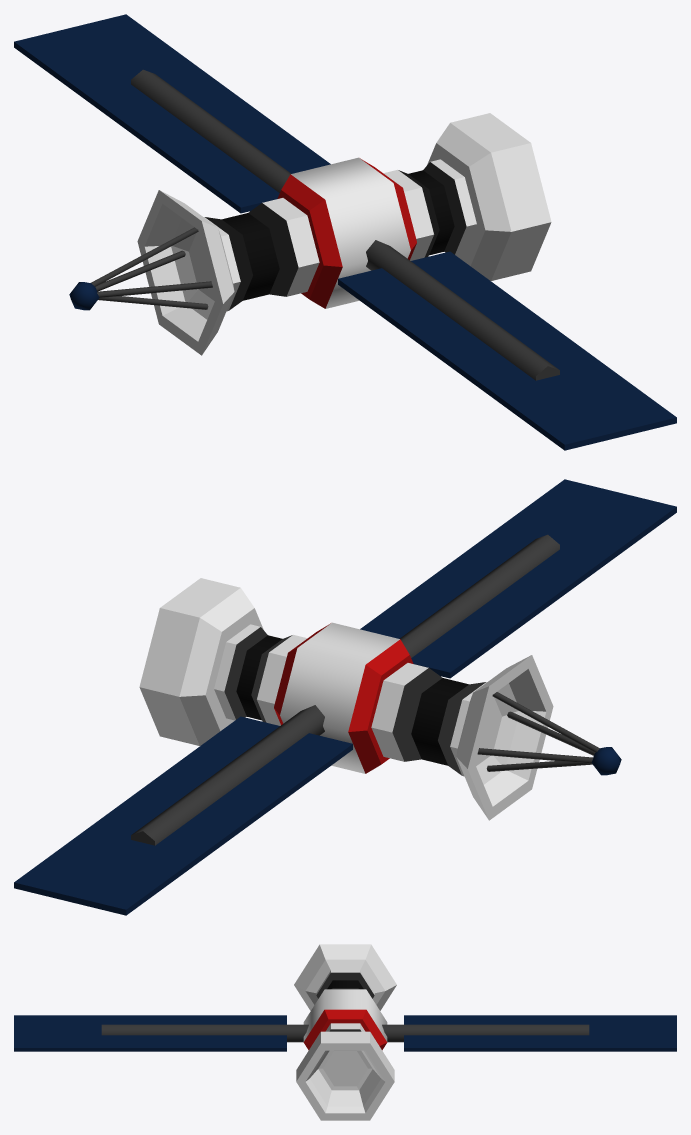
The model's file is Satelite.FBX.
3 views of the same model, one above another, from view 1: azimuth 30°, elevation 25°; view 2: azimuth 150°, elevation 25°; view 3: azimuth 270°, elevation 25° (orthographic). The views are drawn at different scales.
Parts seen in each view (by area): view 1: Satelite, Plane001, Plane002, Cylinder009, Cylinder005, Cylinder010, Cylinder011, Cylinder008, Satelite_Ball; view 2: Satelite, Plane002, Plane001, Cylinder009, Cylinder008, Cylinder010, Satelite_Ball; view 3: Satelite, Plane001, Plane002, Cylinder009.
Boxes of the visible parts, box(x1,y1,x2,y2) form: Satelite: box(137, 113, 551, 355); Plane001: box(338, 251, 676, 450); Plane002: box(14, 14, 330, 213); Cylinder009: box(131, 69, 559, 380); Cylinder005: box(97, 281, 212, 297); Cylinder010: box(90, 227, 198, 286); Cylinder011: box(98, 296, 208, 309); Cylinder008: box(95, 250, 185, 291); Satelite_Ball: box(69, 282, 99, 310); Satelite: box(139, 578, 553, 820); Plane002: box(14, 716, 352, 915); Plane001: box(360, 479, 676, 678); Cylinder009: box(131, 534, 559, 845); Cylinder008: box(477, 748, 593, 763); Cylinder010: box(492, 692, 599, 752); Satelite_Ball: box(591, 747, 621, 775); Satelite: box(294, 944, 396, 1120); Plane001: box(14, 1015, 286, 1051); Plane002: box(404, 1015, 676, 1051); Cylinder009: box(101, 1024, 589, 1042).
Size of the model in its own units: 157 by 45.85 by 340.
